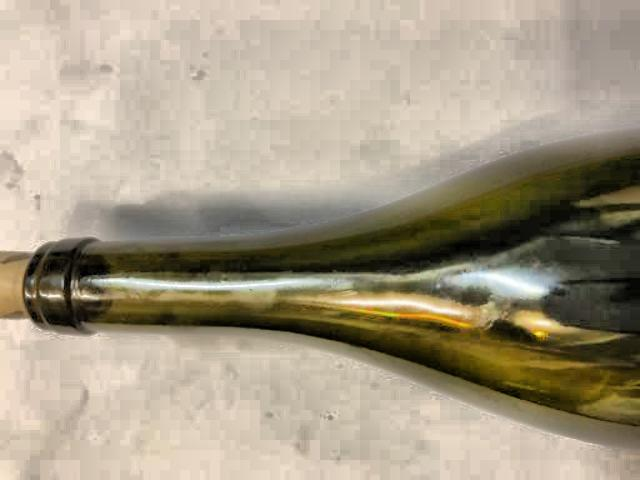Bottles: (0, 115, 640, 480)
